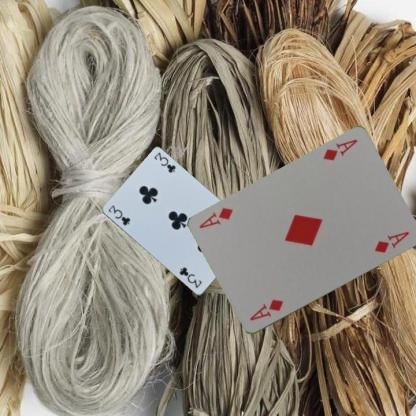3c: (105, 202, 131, 226)
Ad: (247, 296, 285, 322), (321, 136, 358, 162)
